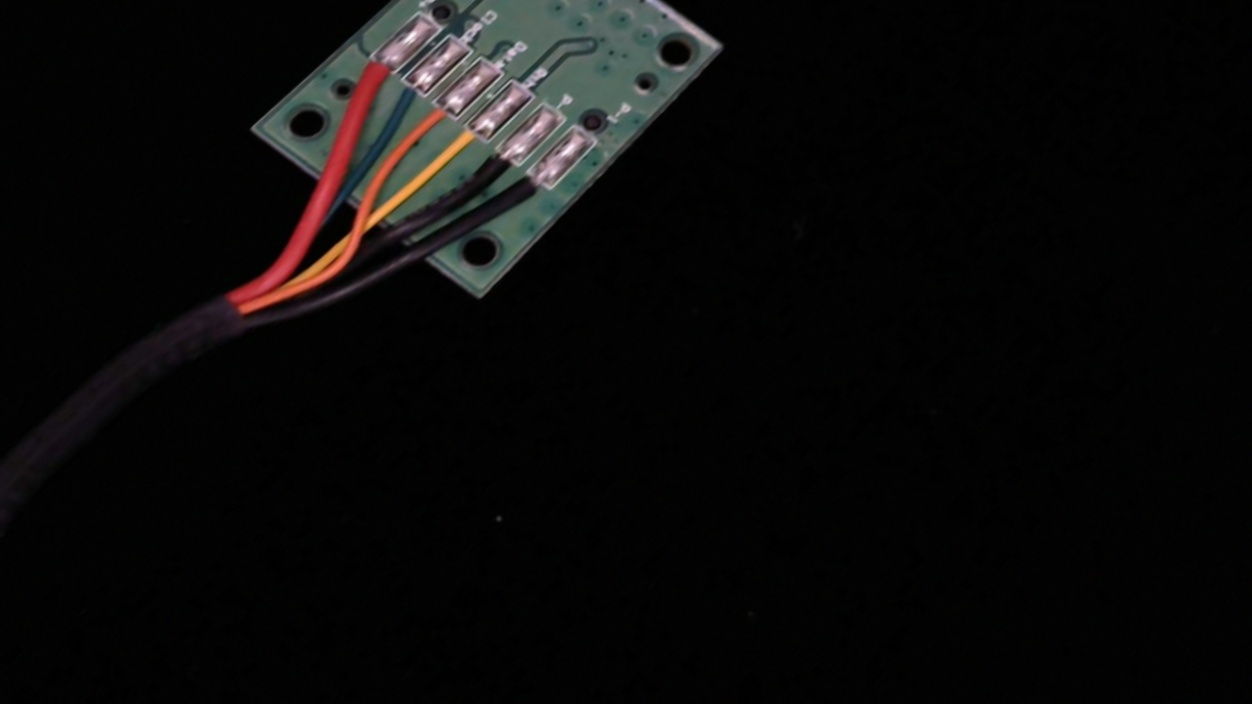Black: (453, 136, 532, 204)
Black1: (491, 159, 565, 222)
Green: (364, 66, 440, 128)
Orange: (394, 90, 469, 152)
Red: (329, 42, 408, 106)
Yellow: (419, 111, 502, 181)
